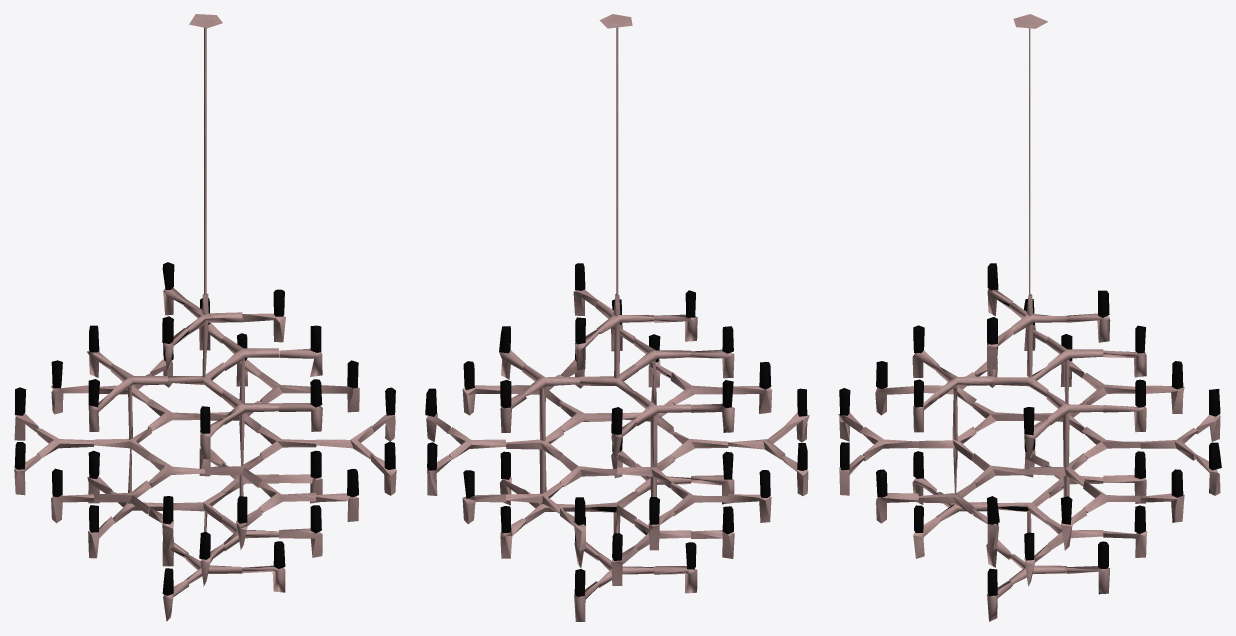
Rendered from LightTop0017.obj.
3 renders of one model, left to right at view 1: azimuth 30°, elevation 25°; view 2: azimuth 150°, elevation 25°; view 3: azimuth 270°, elevation 25°, orthographic.
Size of the model in its own units: 0.586 by 0.931 by 0.567.
Materials: 1 (1 with a texture image).
